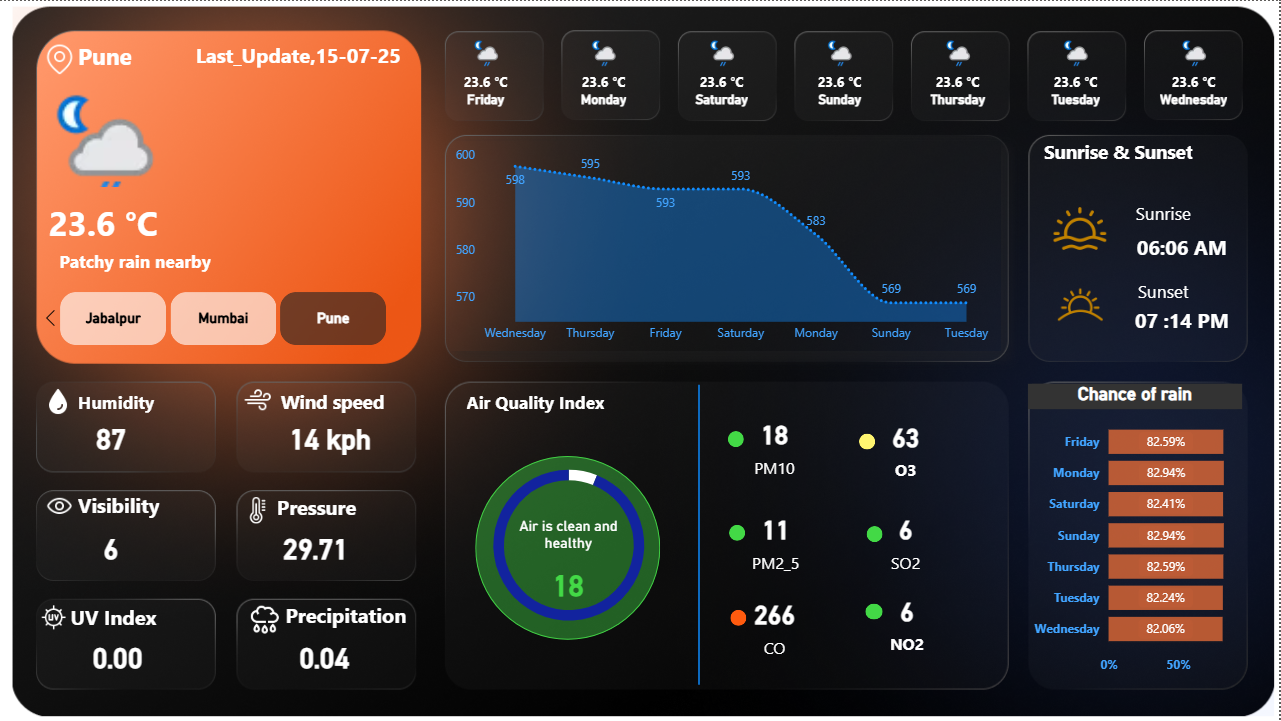

This screenshot's page, from the dashboard's own definition file:
{"tool":"powerbi","page":{"name":"Page 1","canvas":[1280,720],"ordinal":0},"visuals":[{"type":"shape","box":[476.2,446.2,185,178.8],"z":0},{"type":"image","box":[8.8,0,1271.2,720],"z":1000},{"type":"advancedSlicerVisual","fields":{"Values":["Location.location.name"]},"box":[35.7,286.8,378.7,63.1],"z":2000},{"type":"shape","box":[35.2,183,138.6,76.1],"z":3000},{"type":"shape","box":[54.5,221.6,329.5,76.1],"z":4000},{"type":"shape","box":[72.6,9.7,117.7,90.3],"z":5000},{"type":"image","box":[35.7,38.4,48,39.8],"z":6000},{"type":"shape","box":[190.3,8.1,261.3,91.9],"z":7000},{"type":"cardVisual","fields":{"Data":["Min(Current.current.condition.icon)"]},"box":[22.1,69.5,155.8,121.1],"z":8000},{"type":"image","box":[35.9,382.4,46.3,35.9],"z":9000},{"type":"image","box":[40.8,482.3,38.8,45.6],"z":10000},{"type":"image","box":[237.4,491.8,42.2,36.1],"z":11000},{"type":"image","box":[237.4,380.3,42.2,38.1],"z":12000},{"type":"image","box":[36.1,598.6,36.7,35.4],"z":13000},{"type":"image","box":[243.2,595.5,44.3,47.7],"z":14000},{"type":"shape","box":[72.1,354.4,117.7,90.5],"z":15000},{"type":"shape","box":[275,354.5,144.3,90.9],"z":16000},{"type":"shape","box":[72.7,459.1,118.2,89.8],"z":17000},{"type":"shape","box":[270.7,459.9,117.7,90.5],"z":18000},{"type":"shape","box":[65.3,570.1,117.7,90.5],"z":19000},{"type":"shape","box":[279.5,569.3,154.5,89.8],"z":20000},{"type":"card","fields":{"Values":["Sum(Current.current.humidity)"]},"box":[83,414.8,59.1,44.3],"z":21000},{"type":"card","fields":{"Values":["Measure.Wind_speed"]},"box":[270.5,414.8,122.7,44.3],"z":22000},{"type":"card","fields":{"Values":["Sum(Current.current.vis_miles)"]},"box":[83,525,59.1,44.3],"z":23000},{"type":"card","fields":{"Values":["Sum(Current.current.pressure_in)"]},"box":[270.5,525,93.2,44.3],"z":24000},{"type":"card","fields":{"Values":["Sum(Current.current.uv)"]},"box":[83,634.1,72.7,44.3],"z":25000},{"type":"card","fields":{"Values":["Sum(Current.current.precip_mm)"]},"box":[287.5,634.1,76.1,44.3],"z":26000},{"type":"funnel","fields":{"Category":["Forecast_Day.Day_name"]},"box":[434.6,32.1,819.2,92.3],"z":27000},{"type":"advancedSlicerVisual","fields":{"Values":["Forecast_Day.Day_name"]},"box":[434.3,31.4,820,92.9],"z":28000},{"type":"lineChart","fields":{"Y":["Sum(Forecast_Day.forecast.forecastday.day.avgtemp_c)"],"Category":["Forecast_Day.Day_name"]},"box":[451.4,140,551.4,210],"z":29000},{"type":"shape","box":[1028.6,130,181.4,41.4],"z":30000},{"type":"shape","box":[1100,222.9,165.7,45.7],"z":31000},{"type":"shape","box":[1100,295.7,165.7,45.7],"z":32000},{"type":"shape","box":[1074.3,191.4,181.4,41.4],"z":33000},{"type":"shape","box":[1074.3,268.6,181.4,41.4],"z":34000},{"type":"image","box":[1042.9,195.7,77.1,62.9],"z":35000},{"type":"image","box":[1042.9,268.6,77.1,70],"z":36000},{"type":"hundredPercentStackedBarChart","title":"Chance of rain ","fields":{"Category":["Forecast_Day.Day_name"],"Y":["Sum(Forecast_hours.forecast.forecastday.hour.chance_of_rain)","Current.left_value"]},"box":[1028.6,382.9,214.3,300],"z":37000},{"type":"shape","box":[463.8,375,176.2,51.2],"z":38000},{"type":"card","fields":{"Values":["Sum(Current.current.air_quality.o3)"]},"box":[858.8,411.2,96.2,71.2],"z":39000},{"type":"card","fields":{"Values":["Sum(Current.current.air_quality.so2)"]},"box":[858.8,503.8,96.2,71.2],"z":40000},{"type":"card","fields":{"Values":["Sum(Current.current.air_quality.no2)"]},"box":[860,585,96.2,71.2],"z":41000},{"type":"card","fields":{"Values":["Sum(Current.current.air_quality.pm10)"]},"box":[727.5,408.8,96.2,71.2],"z":42000},{"type":"card","fields":{"Values":["Sum(Current.current.air_quality.pm2_5)"]},"box":[728.8,503.8,96.2,71.2],"z":43000},{"type":"card","fields":{"Values":["Sum(Current.current.air_quality.co)"]},"box":[727.5,588.8,96.2,71.2],"z":44000},{"type":"shape","box":[728.8,430,16.2,16.2],"z":45000},{"type":"shape","box":[867.5,525,16.2,16.2],"z":46000},{"type":"shape","box":[860,432.5,16.2,16.2],"z":47000},{"type":"shape","box":[730,523.8,16.2,16.2],"z":48000},{"type":"shape","box":[866.2,602.5,17.5,16.2],"z":49000},{"type":"shape","box":[731.2,608.8,16.2,16.2],"z":50000},{"type":"shape","box":[692.5,383.8,15,300],"z":51000},{"type":"shape","box":[476.2,455,185,183.8],"z":51500},{"type":"card","fields":{"Values":["Sum(Current.current.air_quality.pm10)"]},"box":[503.8,516.2,131.2,100],"z":52000},{"type":"donutChart","fields":{"Y":["Sum(Current.current.air_quality.pm10)","Measure.Left_value_PM10"]},"box":[453.8,445,232.5,198.8],"z":53000}]}

Visuals, with their boxes in screenshot pixels (x1, y1, x2, y2), scaled from the page's 1280x720 canvas onto the 1281x721 screenshot:
shape: l=477, t=447, r=662, b=626
image: l=9, t=0, r=1280, b=720
advancedSlicerVisual - Location.location.name: l=36, t=287, r=415, b=350
shape: l=35, t=183, r=174, b=259
shape: l=55, t=222, r=384, b=298
shape: l=73, t=10, r=190, b=100
image: l=36, t=38, r=84, b=78
shape: l=190, t=8, r=452, b=100
cardVisual - Min(Current.current.condition.icon): l=22, t=70, r=178, b=191
image: l=36, t=383, r=82, b=419
image: l=41, t=483, r=80, b=529
image: l=238, t=492, r=280, b=529
image: l=238, t=381, r=280, b=419
image: l=36, t=599, r=73, b=635
image: l=243, t=596, r=288, b=644
shape: l=72, t=355, r=190, b=446
shape: l=275, t=355, r=420, b=446
shape: l=73, t=460, r=191, b=550
shape: l=271, t=461, r=389, b=551
shape: l=65, t=571, r=183, b=662
shape: l=280, t=570, r=434, b=660
card - Sum(Current.current.humidity): l=83, t=415, r=142, b=460
card - Measure.Wind_speed: l=271, t=415, r=394, b=460
card - Sum(Current.current.vis_miles): l=83, t=526, r=142, b=570
card - Sum(Current.current.pressure_in): l=271, t=526, r=364, b=570
card - Sum(Current.current.uv): l=83, t=635, r=156, b=679
card - Sum(Current.current.precip_mm): l=288, t=635, r=364, b=679
funnel - Forecast_Day.Day_name: l=435, t=32, r=1255, b=125
advancedSlicerVisual - Forecast_Day.Day_name: l=435, t=31, r=1255, b=124
lineChart - Sum(Forecast_Day.forecast.forecastday.day.avgtemp_c) x Forecast_Day.Day_name: l=452, t=140, r=1004, b=350
shape: l=1029, t=130, r=1211, b=172
shape: l=1101, t=223, r=1267, b=269
shape: l=1101, t=296, r=1267, b=342
shape: l=1075, t=192, r=1257, b=233
shape: l=1075, t=269, r=1257, b=310
image: l=1044, t=196, r=1121, b=259
image: l=1044, t=269, r=1121, b=339
"Chance of rain " hundredPercentStackedBarChart: l=1029, t=383, r=1244, b=684
shape: l=464, t=376, r=640, b=427
card - Sum(Current.current.air_quality.o3): l=859, t=412, r=956, b=483
card - Sum(Current.current.air_quality.so2): l=859, t=504, r=956, b=576
card - Sum(Current.current.air_quality.no2): l=861, t=586, r=957, b=657
card - Sum(Current.current.air_quality.pm10): l=728, t=409, r=824, b=481
card - Sum(Current.current.air_quality.pm2_5): l=729, t=504, r=826, b=576
card - Sum(Current.current.air_quality.co): l=728, t=590, r=824, b=661
shape: l=729, t=431, r=746, b=447
shape: l=868, t=526, r=884, b=542
shape: l=861, t=433, r=877, b=449
shape: l=731, t=525, r=747, b=541
shape: l=867, t=603, r=884, b=620
shape: l=732, t=610, r=748, b=626
shape: l=693, t=384, r=708, b=685
shape: l=477, t=456, r=662, b=640
card - Sum(Current.current.air_quality.pm10): l=504, t=517, r=635, b=617
donutChart - Sum(Current.current.air_quality.pm10) x Measure.Left_value_PM10: l=454, t=446, r=687, b=645
